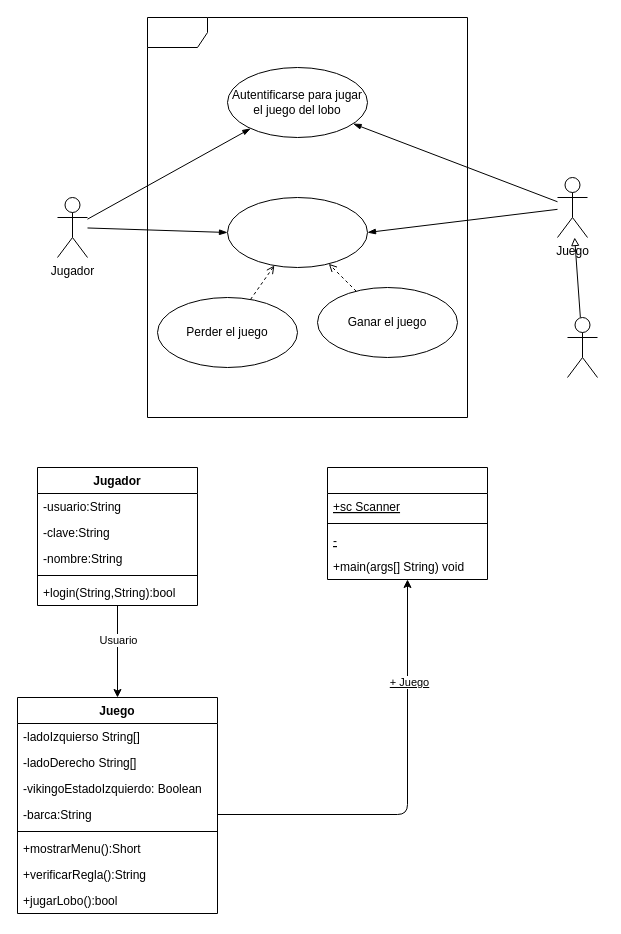
This 621x934 diagram has some shape labels left out. Each missing label, with the box of its shape:
App: (326, 466, 488, 580)
Jugar el juego del lobo: (226, 196, 368, 268)
Palanca: (566, 316, 598, 378)
prjLobo: (146, 16, 468, 418)
